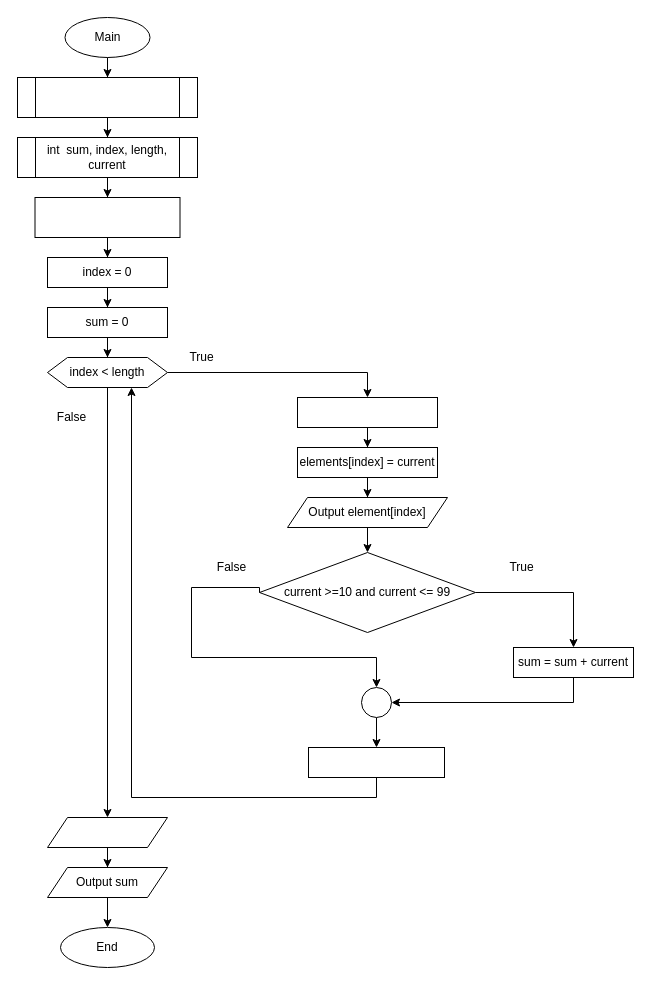
Image size: 651x985. Some labels were removed from this diagram. The centre of each missing label's shape, as x and y in pixels:
current = Random(30): [367,412]
index = index + 1: [376,762]
int Array elements[10]: [107,97]
length = Size(elements): [107,217]
Output("---"): [107,832]
